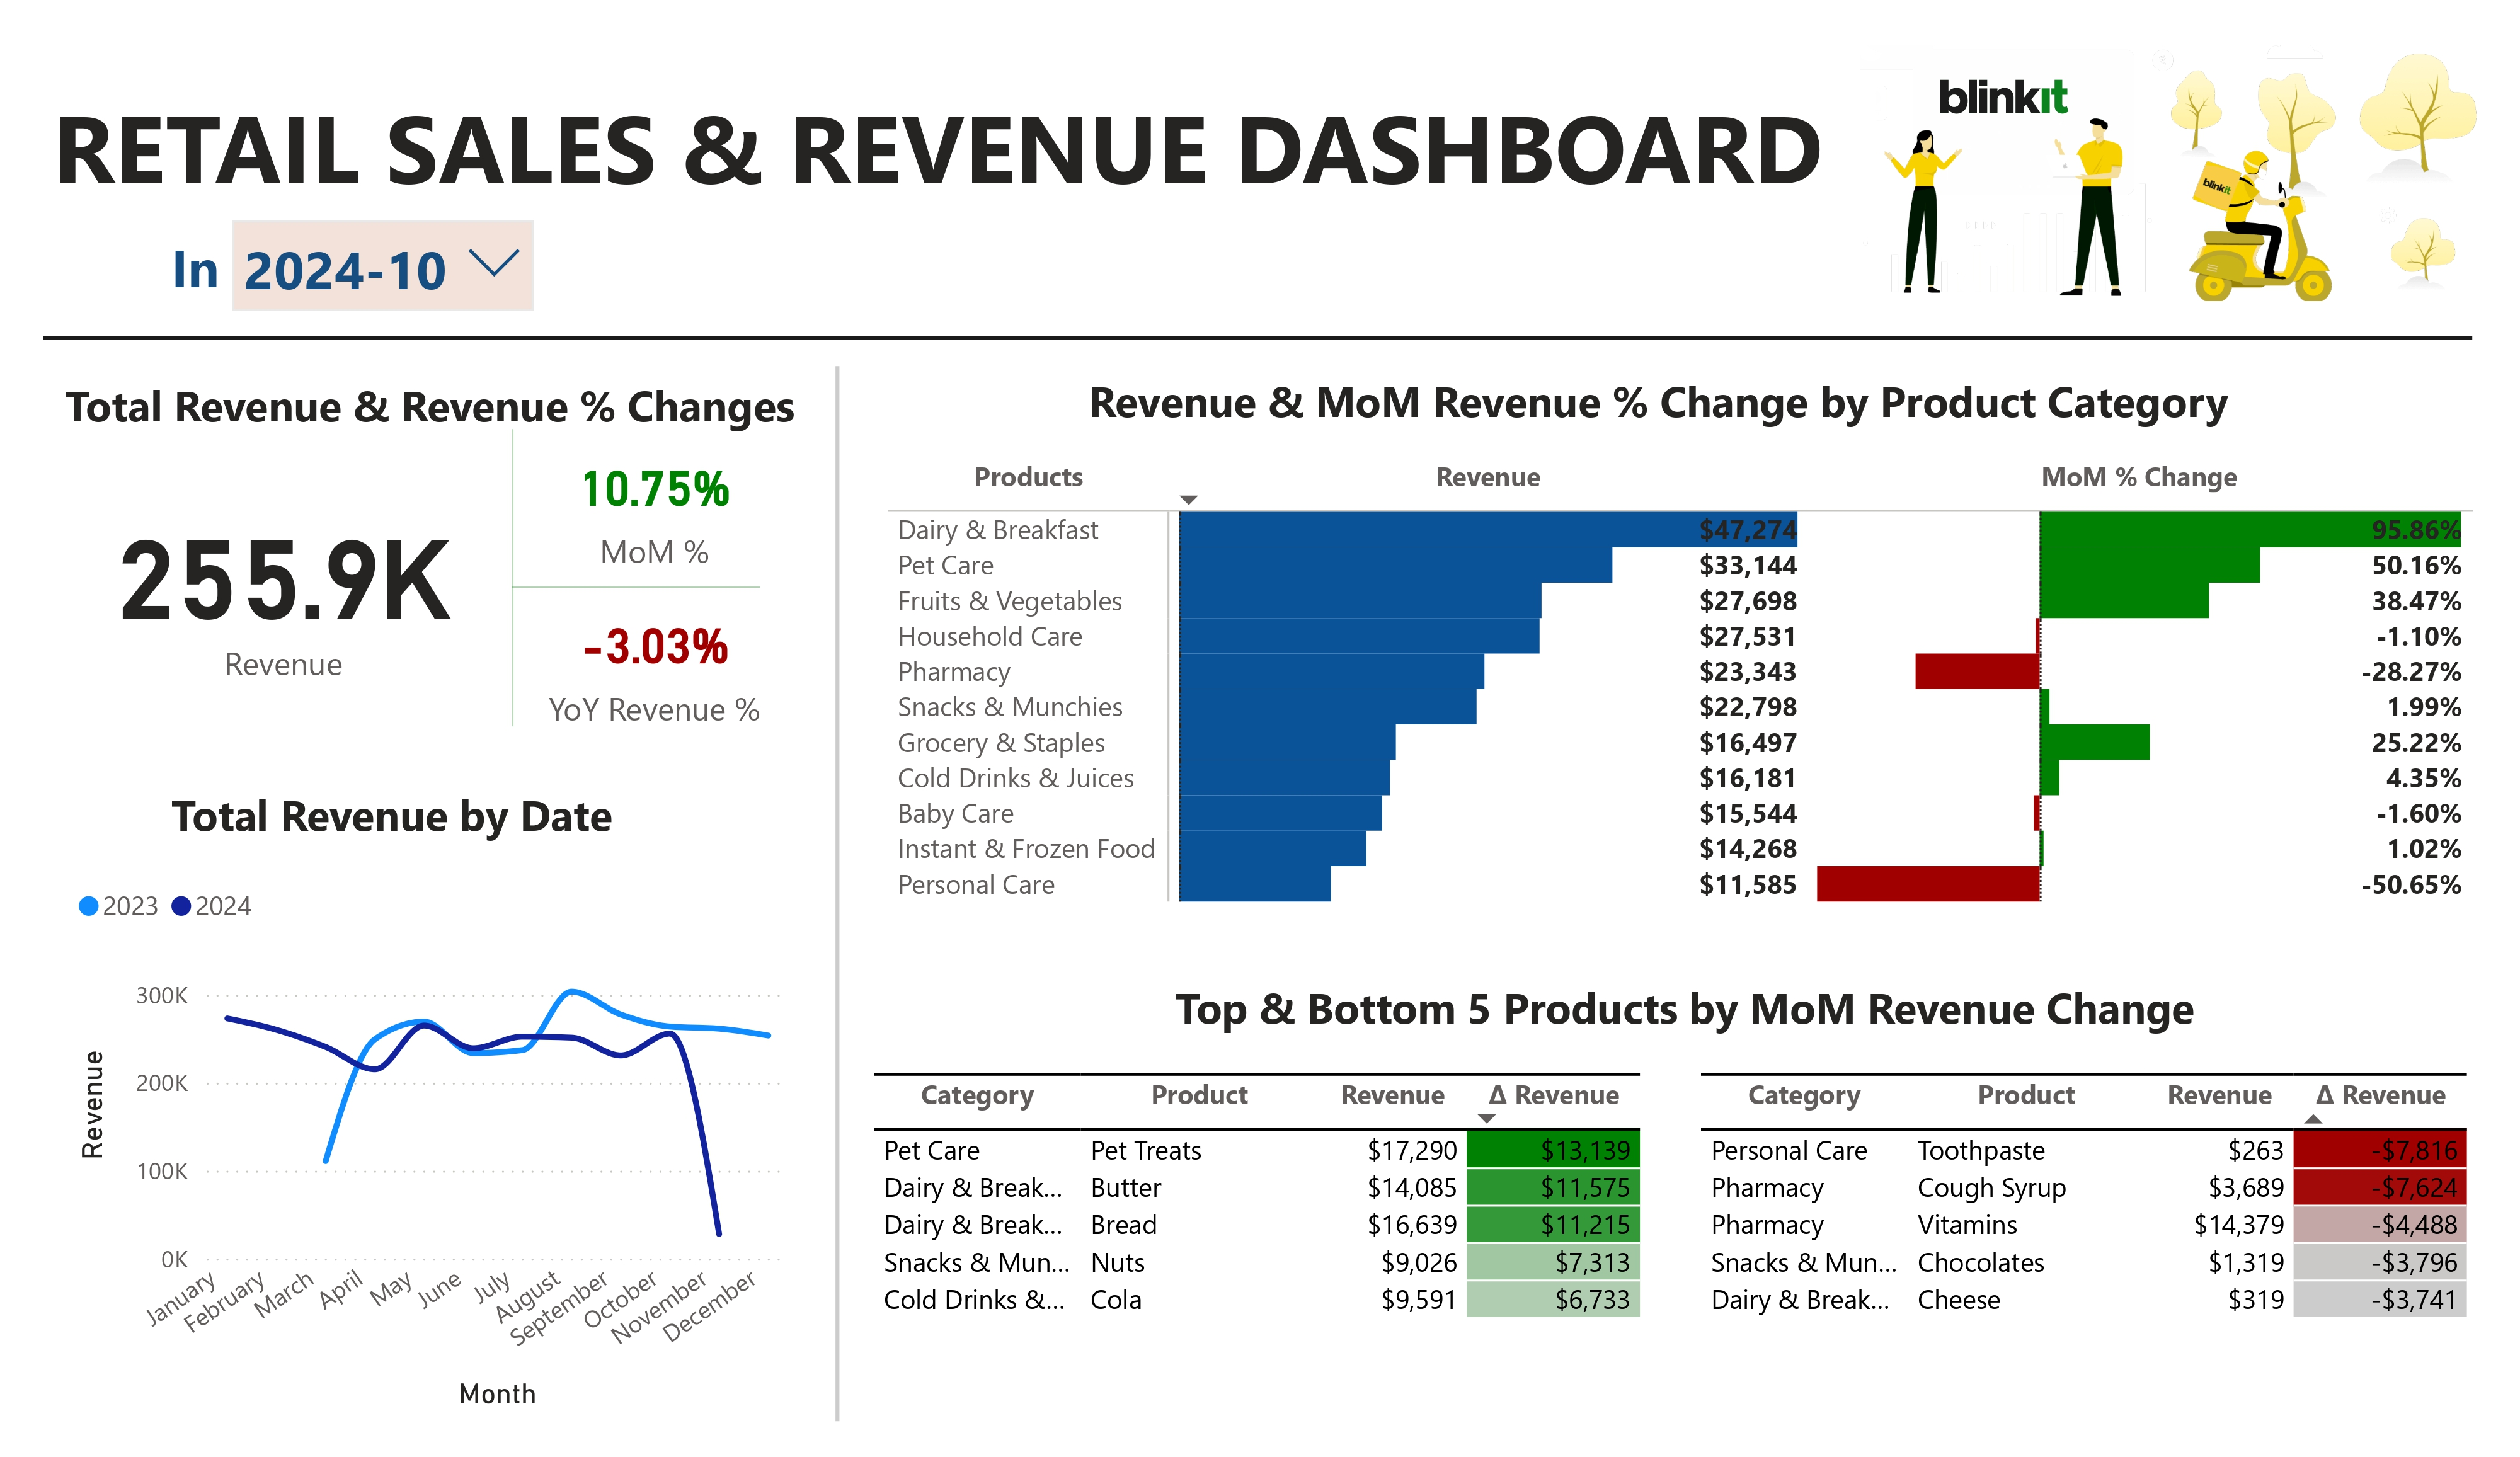

This screenshot's page, from the dashboard's own definition file:
{"tool":"powerbi","page":{"name":"Page 1","canvas":[1280,720],"ordinal":0},"visuals":[{"type":"card","fields":{"Values":["orders.MoM Revenue %"]},"box":[260,208.8,145,80],"z":0},{"type":"card","fields":{"Values":["orders.Revenue"]},"box":[33.8,213.8,220,148.8],"z":1000},{"type":"image","box":[932.5,7.5,341.2,140],"z":2000},{"type":"card","fields":{"Values":["orders.YoY Revenue %"]},"box":[260,288.8,145,80],"z":3000},{"type":"lineChart","fields":{"Series":["orders.order_year"],"Category":["orders.order_day.Variation.Date Hierarchy.Month"],"Y":["orders.Revenue"]},"box":[33.8,430,371.2,281.2],"z":4000},{"type":"slicer","fields":{"Values":["orders.YearMonth"]},"box":[108.8,91.2,172.5,67.5],"z":5000},{"type":"pivotTable","fields":{"Rows":["products.category"],"Values":["orders.Revenue","order_items.MoM % Change"]},"box":[445,218.8,835,245],"z":6000},{"type":"textbox","box":[82.5,383.8,275,46.2],"z":6500},{"type":"tableEx","fields":{"Values":["products.category","products.product_name","orders.Revenue","orders.MoM Revenue Change"]},"box":[438.8,530,418.8,155],"z":7000},{"type":"textbox","box":[547.5,173.8,620,47.5],"z":8000},{"type":"textbox","box":[27.5,175,383.8,43.8],"z":10000},{"type":"shape","box":[21.2,147.5,1233.8,27.5],"z":11000},{"type":"shape","box":[405,175,38.8,536.2],"z":12000},{"type":"shape","box":[253.8,208.8,13,151.2],"z":13000},{"type":"shape","box":[260,282.5,126.2,12.5],"z":14000},{"type":"textbox","box":[21.2,26.2,931.2,75],"z":15000},{"type":"textbox","box":[591.2,482.5,532.5,47.5],"z":16000},{"type":"image","box":[970,0,95,77.5],"z":17000},{"type":"textbox","box":[82.5,101.2,37.5,47.5],"z":18000},{"type":"tableEx","fields":{"Values":["products.category","products.product_name","orders.Revenue","orders.MoM Revenue Change"]},"box":[857.5,530,418.8,155],"z":19000}]}

Visuals, with their boxes in screenshot pixels (x1, y1, x2, y2), scaled from the page's 1280x720 canvas onto the 2520x1457 screenshot:
card - orders.MoM Revenue %: <box>512,423,798,585</box>
card - orders.Revenue: <box>67,433,500,734</box>
image: <box>1836,15,2507,299</box>
card - orders.YoY Revenue %: <box>512,585,798,746</box>
lineChart - orders.order_year x orders.order_day.Variation.Date Hierarchy.Month: <box>67,870,798,1439</box>
slicer - orders.YearMonth: <box>214,185,554,321</box>
pivotTable - products.category x orders.Revenue: <box>876,443,2519,939</box>
textbox: <box>163,777,704,870</box>
tableEx - products.category x products.product_name: <box>864,1073,1688,1386</box>
textbox: <box>1078,351,2298,448</box>
textbox: <box>54,354,810,443</box>
shape: <box>42,299,2471,354</box>
shape: <box>798,354,874,1439</box>
shape: <box>500,423,525,728</box>
shape: <box>512,572,760,597</box>
textbox: <box>42,53,1875,205</box>
textbox: <box>1164,976,2213,1073</box>
image: <box>1910,0,2097,157</box>
textbox: <box>163,205,236,301</box>
tableEx - products.category x products.product_name: <box>1688,1073,2512,1386</box>
